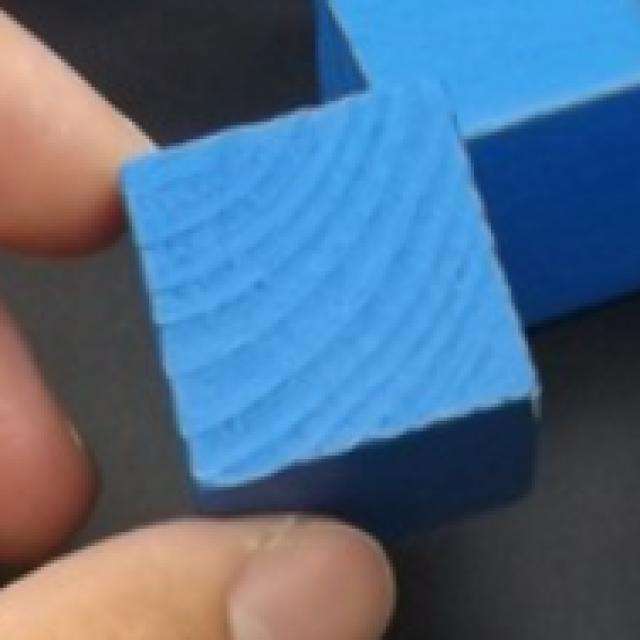bluecube: (116, 74, 538, 540), (318, 0, 640, 332)
